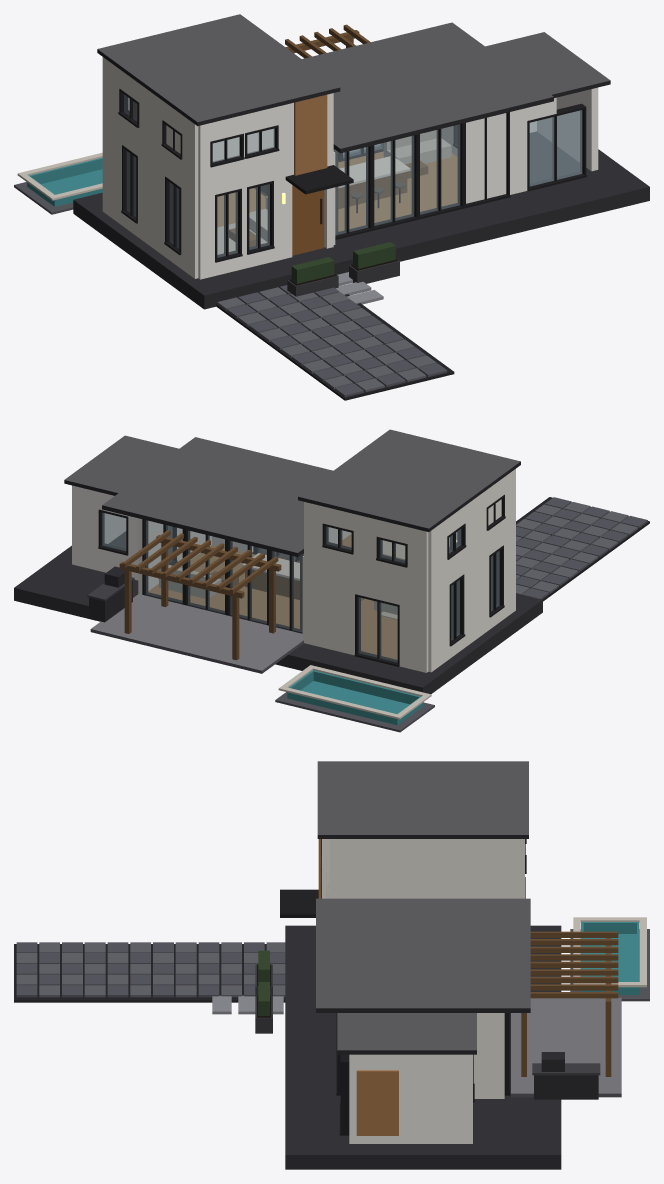
Rendered from residence.glb.
3 views of the same model, one above another, from view 1: azimuth 30°, elevation 25°; view 2: azimuth 150°, elevation 25°; view 3: azimuth 270°, elevation 25° (orthographic). The views are drawn at different scales.
Parts seen in each view (by area): view 1: window (×12), site, roofB, driveway-pavers, finFrontA, roofA, finWestA, addition, interior, kitchen, pool, pergolaRoof (+2 smaller); view 2: window (×11), roofB, finBackA, roofA, finWestA, site, driveway-pavers, patio, addition, pool, pergolaRoof, interior (+4 smaller); view 3: roofB, site, driveway-pavers, addition, roofA, finEastA, patio, pergolaRoof, pool, bbq, finEastB, finFrontA (+2 smaller).
Boxes of the visible parts, x1=… form: window (×12): x1=118, y1=88, x2=586, y2=262; site: x1=73, y1=131, x2=649, y2=309; roofB: x1=302, y1=22, x2=553, y2=153; driveway-pavers: x1=216, y1=242, x2=454, y2=400; finFrontA: x1=198, y1=93, x2=353, y2=279; roofA: x1=97, y1=14, x2=340, y2=126; finWestA: x1=102, y1=57, x2=198, y2=278; addition: x1=466, y1=32, x2=610, y2=203; interior: x1=217, y1=151, x2=457, y2=231; kitchen: x1=260, y1=130, x2=451, y2=232; pool: x1=14, y1=152, x2=102, y2=214; pergolaRoof: x1=285, y1=24, x2=370, y2=58; window (×11): x1=98, y1=509, x2=504, y2=666; roofB: x1=102, y1=437, x2=332, y2=556; finBackA: x1=302, y1=502, x2=428, y2=672; roofA: x1=298, y1=429, x2=520, y2=531; finWestA: x1=428, y1=469, x2=515, y2=672; site: x1=14, y1=531, x2=542, y2=694; driveway-pavers: x1=516, y1=497, x2=649, y2=601; patio: x1=90, y1=594, x2=303, y2=673; addition: x1=64, y1=435, x2=253, y2=580; pool: x1=275, y1=665, x2=434, y2=732; pergolaRoof: x1=119, y1=530, x2=281, y2=598; interior: x1=148, y1=545, x2=397, y2=659; roofB: x1=316, y1=898, x2=530, y2=1012; site: x1=285, y1=925, x2=561, y2=1169; driveway-pavers: x1=14, y1=942, x2=285, y2=1033; addition: x1=337, y1=1013, x2=476, y2=1143; roofA: x1=317, y1=761, x2=528, y2=838; finEastA: x1=326, y1=839, x2=520, y2=898; patio: x1=511, y1=997, x2=621, y2=1097; pergolaRoof: x1=530, y1=931, x2=618, y2=1007; pool: x1=570, y1=917, x2=649, y2=1001; bbq: x1=532, y1=1052, x2=600, y2=1099; finEastB: x1=473, y1=1013, x2=504, y2=1098; finFrontA: x1=280, y1=839, x2=329, y2=917.
Size of what is drawn, in the model's own units: 17.35 by 6.23 by 19.58.
